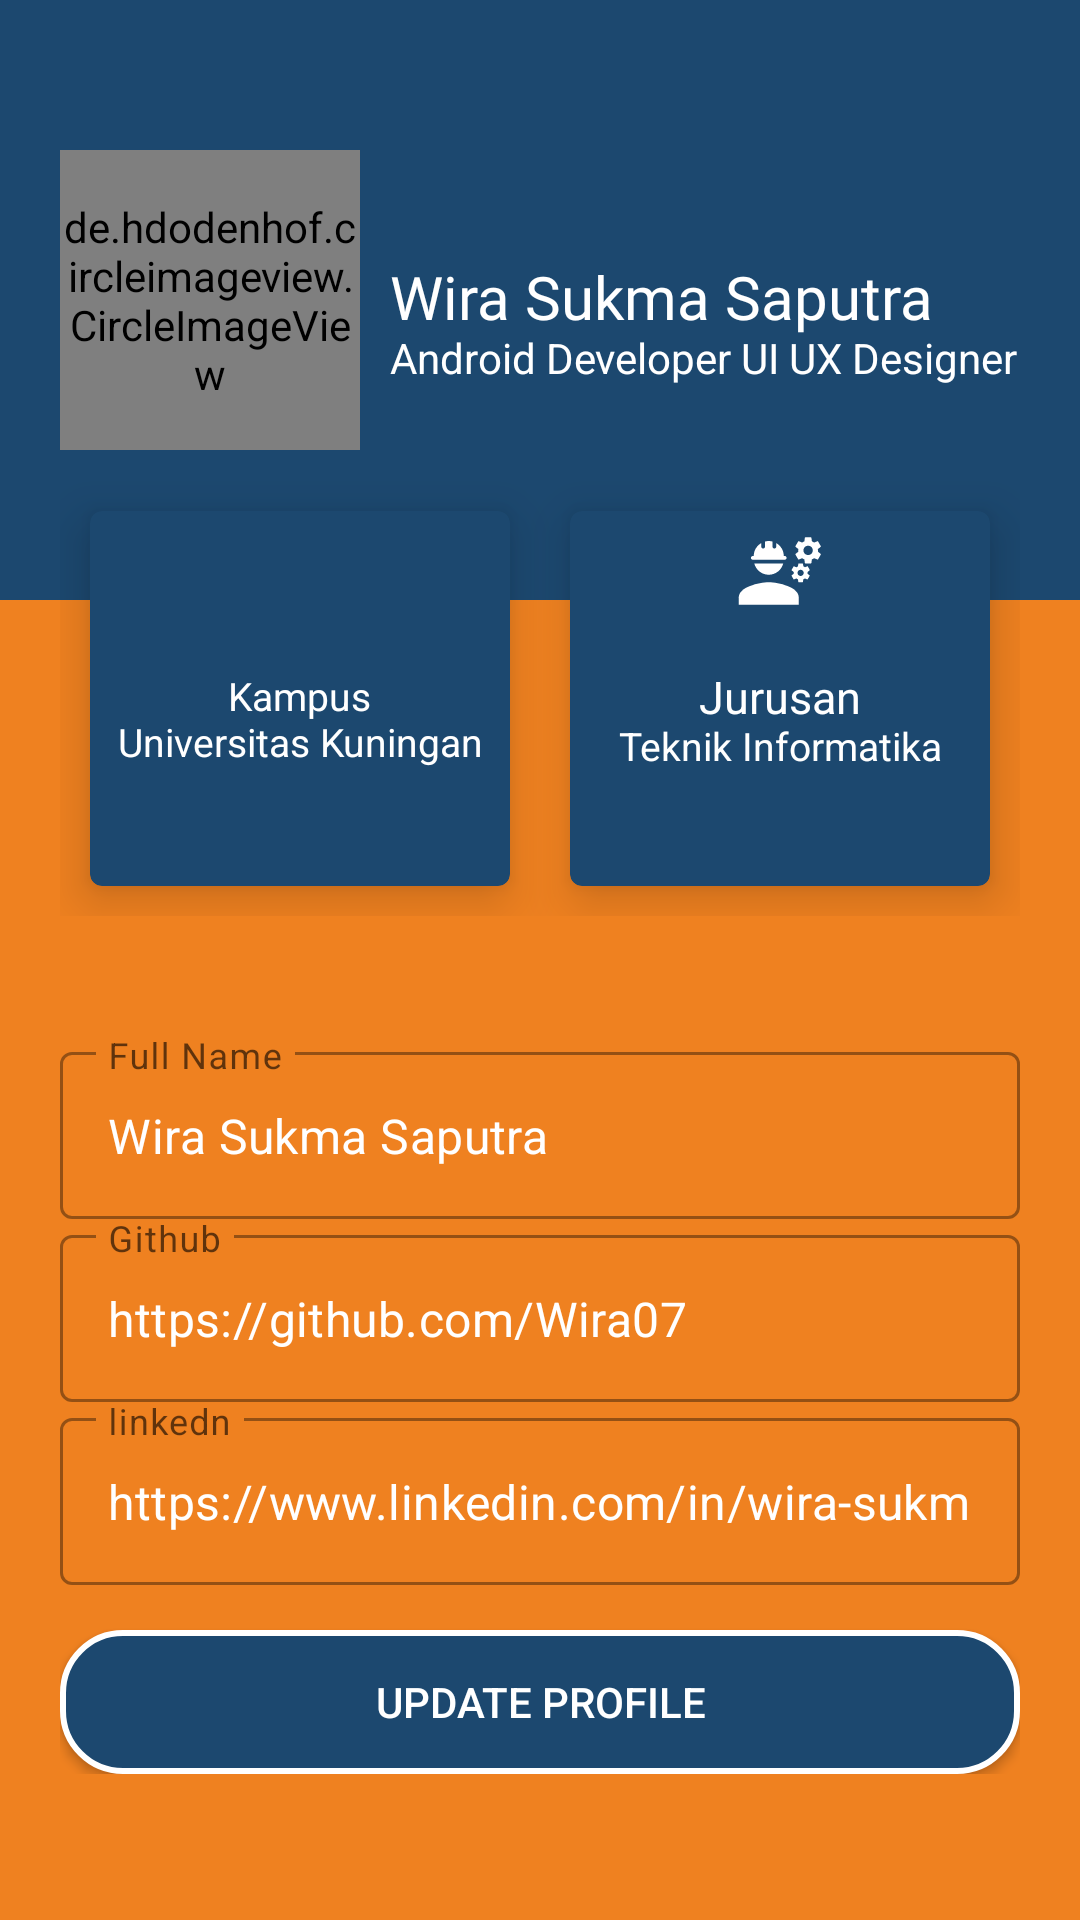

Icon click points for this 1080×1920 phone screenshot, format point (x, y):
engineering: point (779, 571)
